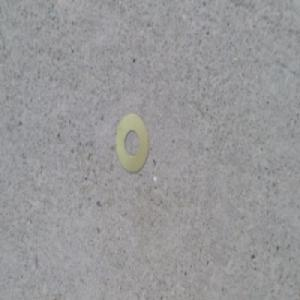Washer: (114, 111, 150, 175)
